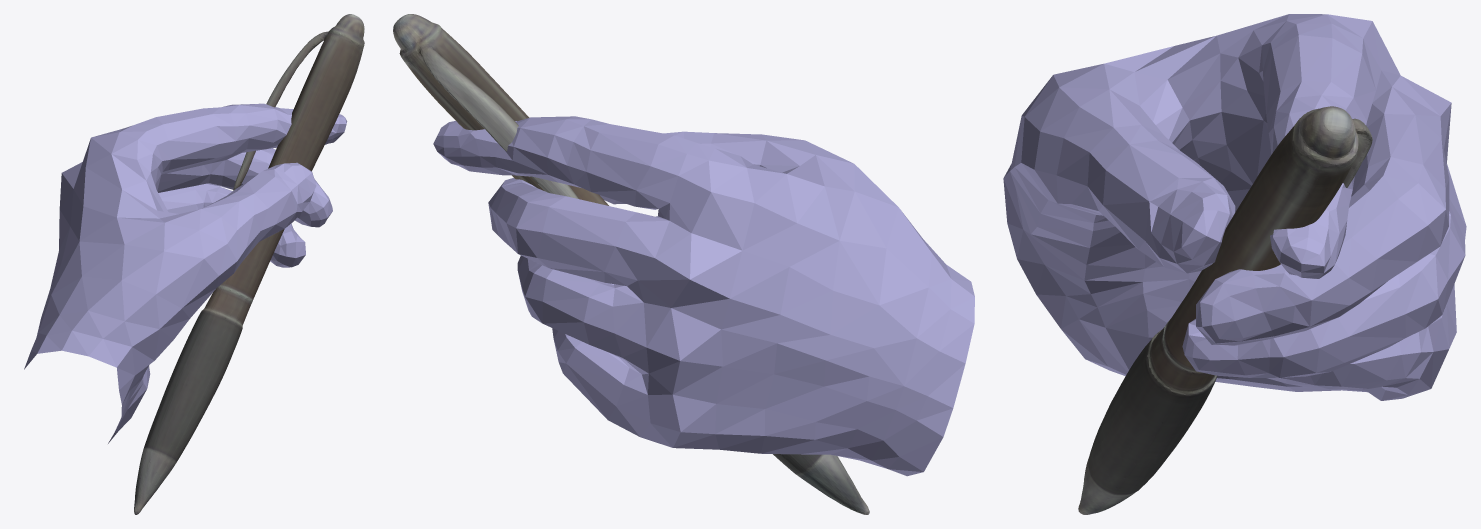
Rendered from frame_0062_source_000062_hand_object.glb.
The picture shows the model from 3 angles, left to right: view 1: azimuth 30°, elevation 25°; view 2: azimuth 150°, elevation 25°; view 3: azimuth 270°, elevation 25°; orthographic projection. The views are drawn at different scales.
Parts seen in each view (by area): view 1: world; view 2: world; view 3: world.
Boxes of the visible parts, x1=… form: world: x1=24, y1=14, x2=364, y2=514; world: x1=393, y1=14, x2=974, y2=514; world: x1=1003, y1=14, x2=1466, y2=514.
Bounding box in the file's own units: 0.1576 × 0.1438 × 0.0935.
